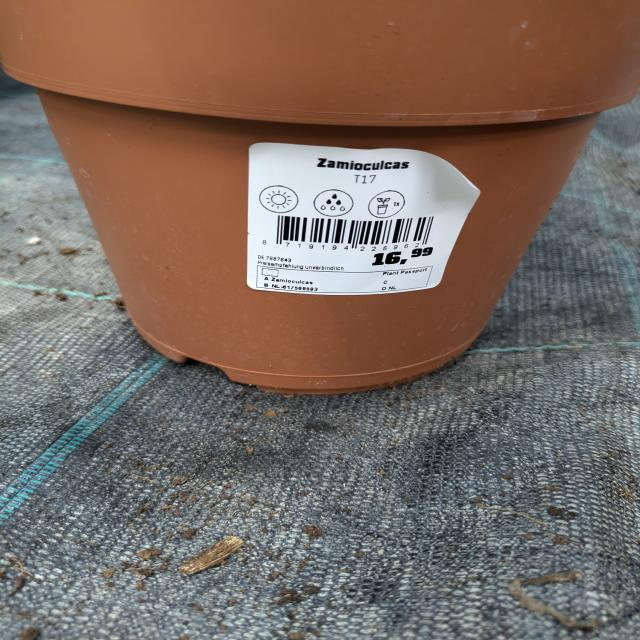dungen: (369, 186, 408, 216)
mittel giesen: (315, 190, 358, 217)
sonnig: (256, 181, 303, 217)
